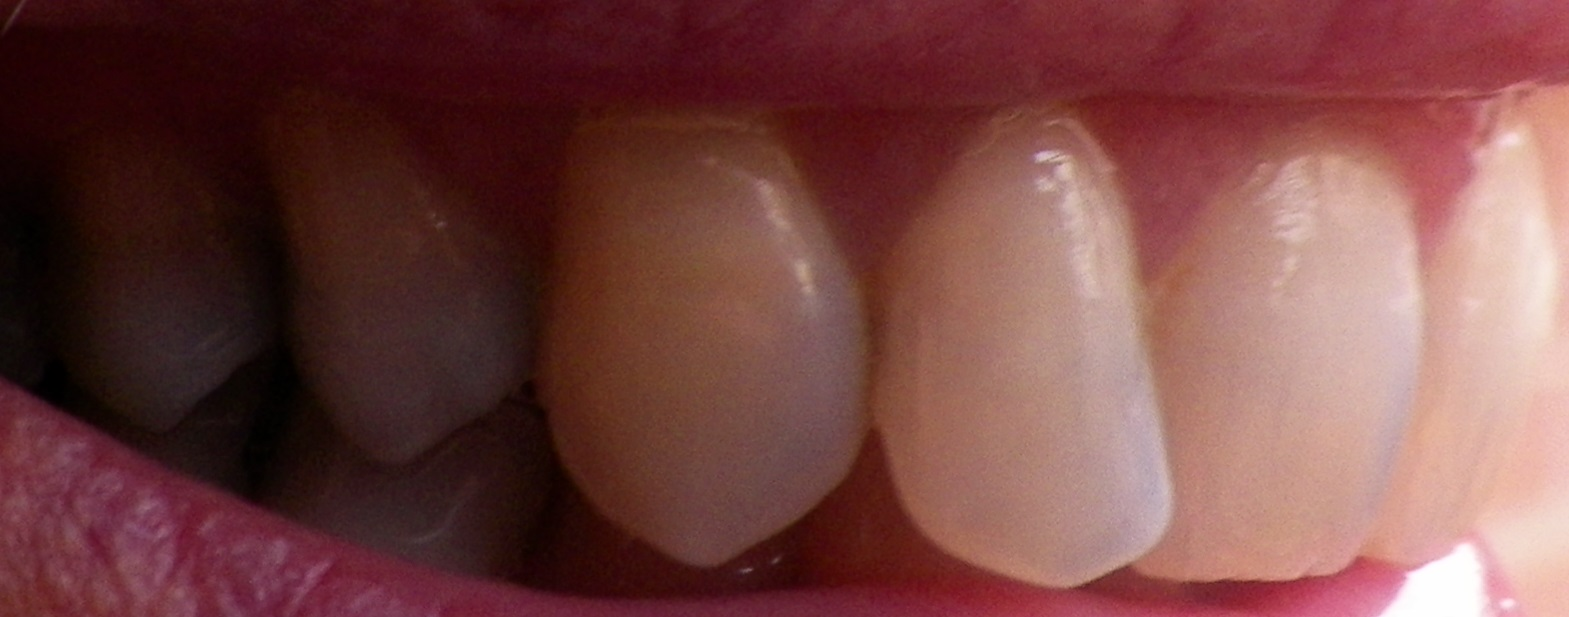boca: (33, 85, 1569, 581)
